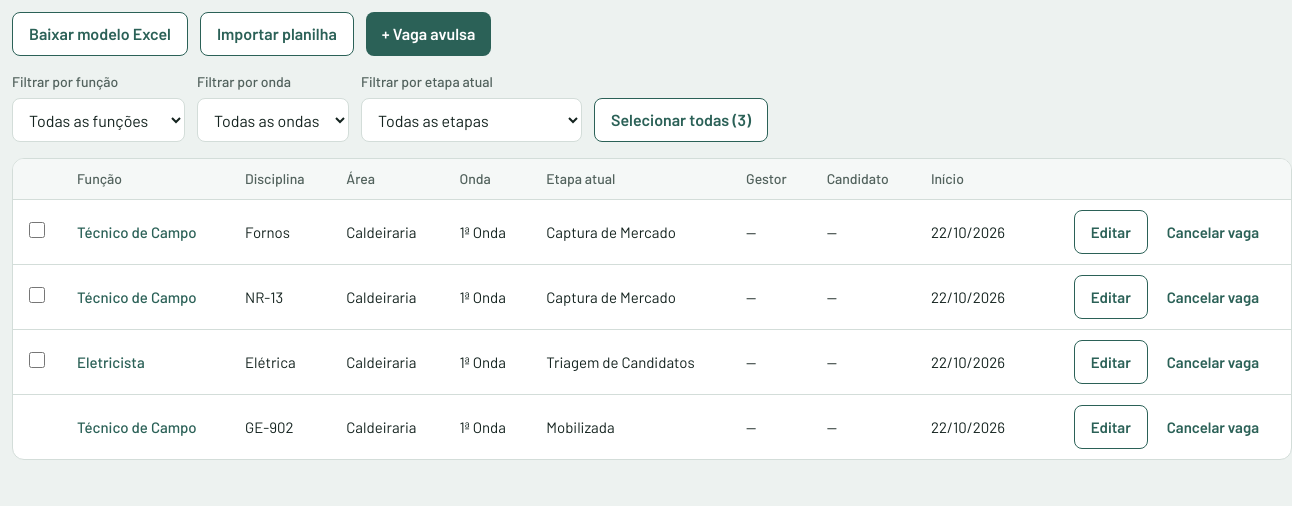
Test: selecionar todas do filtro marca só as vagas do filtro, fora as mobilizadas
Select "Técnico de Campo" in the dropdown labelled "Filtrar por função". click: (98, 120)
box: [12,98,185,142]
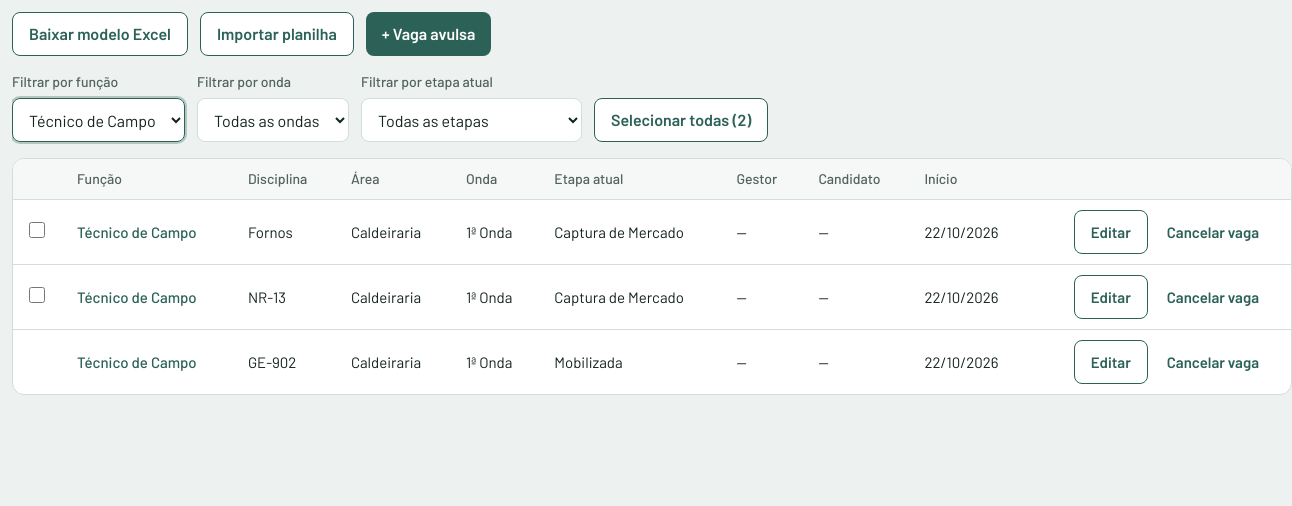
Click the button "Selecionar todas (2)". click: (681, 120)
box: [594,98,768,142]
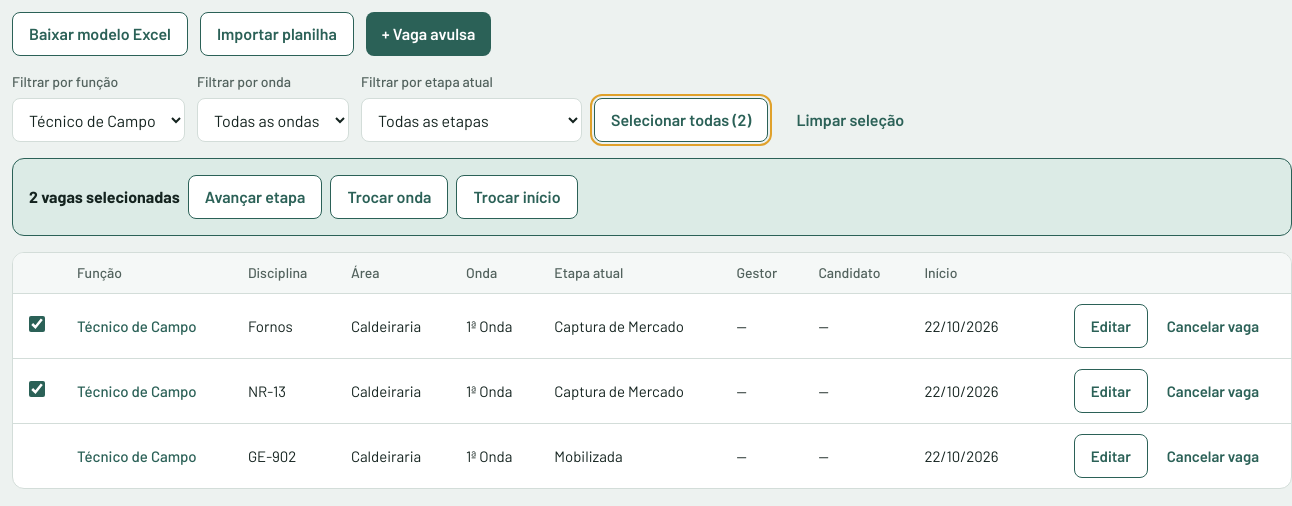
Now the text "2 vagas selecionadas" is shown, box [29,185,180,209]
Now the checkbox named "Selecionar Técnico de Campo · Fornos" is checked, box [29,316,45,332]
